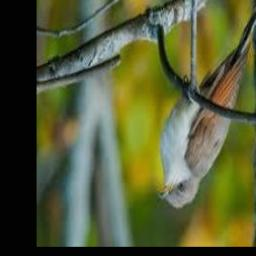Cuckoo: (159, 0, 256, 208)
